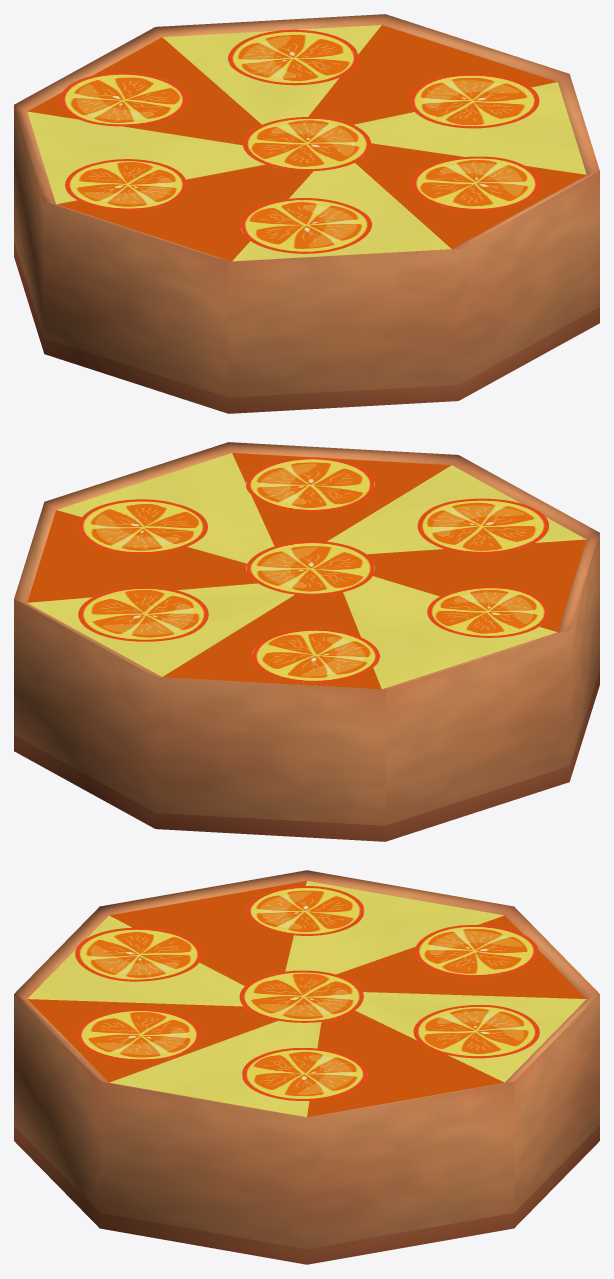
The model's file is Cheesecake_C_4.FBX.
The picture shows the model from 3 angles, top to bottom: view 1: azimuth 30°, elevation 25°; view 2: azimuth 150°, elevation 25°; view 3: azimuth 270°, elevation 25°; orthographic projection. The views are drawn at different scales.
Parts seen in each view (by area): view 1: Cheesecake_B; view 2: Cheesecake_B; view 3: Cheesecake_B.
Part boxes in pixels (x1,y1,x2,y2): Cheesecake_B: (14, 14, 599, 413); Cheesecake_B: (14, 442, 599, 841); Cheesecake_B: (14, 870, 599, 1264).
Size of the model in its own units: 85.22 by 23.58 by 85.22.
